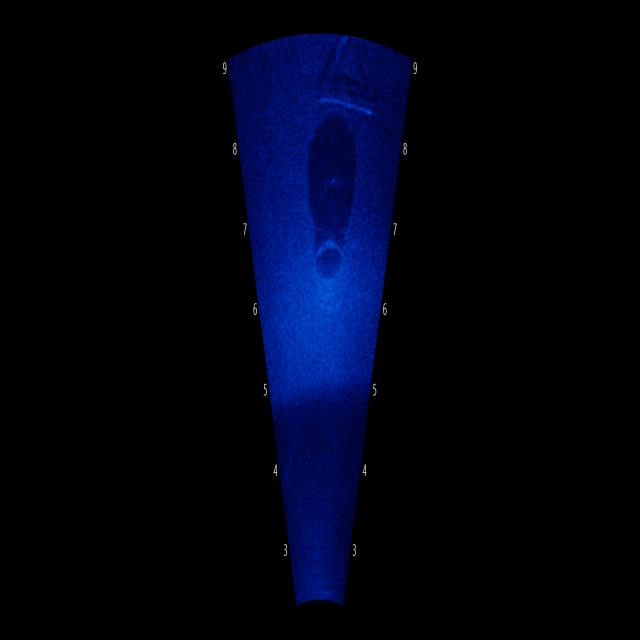circle: (298, 223, 361, 329)
triangle: (306, 30, 383, 126)
